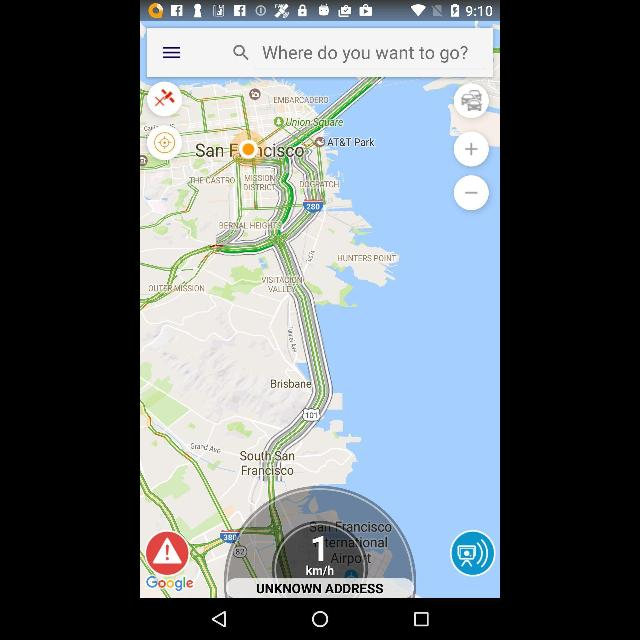icon: (232, 44, 250, 61), (312, 611, 328, 627), (163, 46, 181, 60), (212, 611, 226, 627), (415, 612, 429, 626)
input: (148, 28, 494, 76)
map: (140, 77, 500, 598)
panel: (140, 598, 500, 640)
uppertaskbar: (140, 0, 500, 20)
